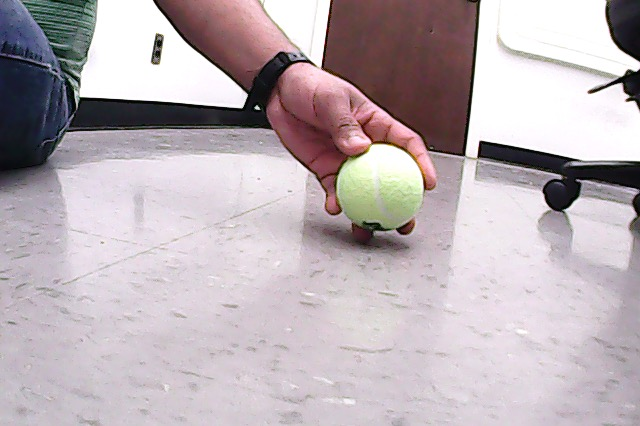ball: (334, 141, 429, 234)
